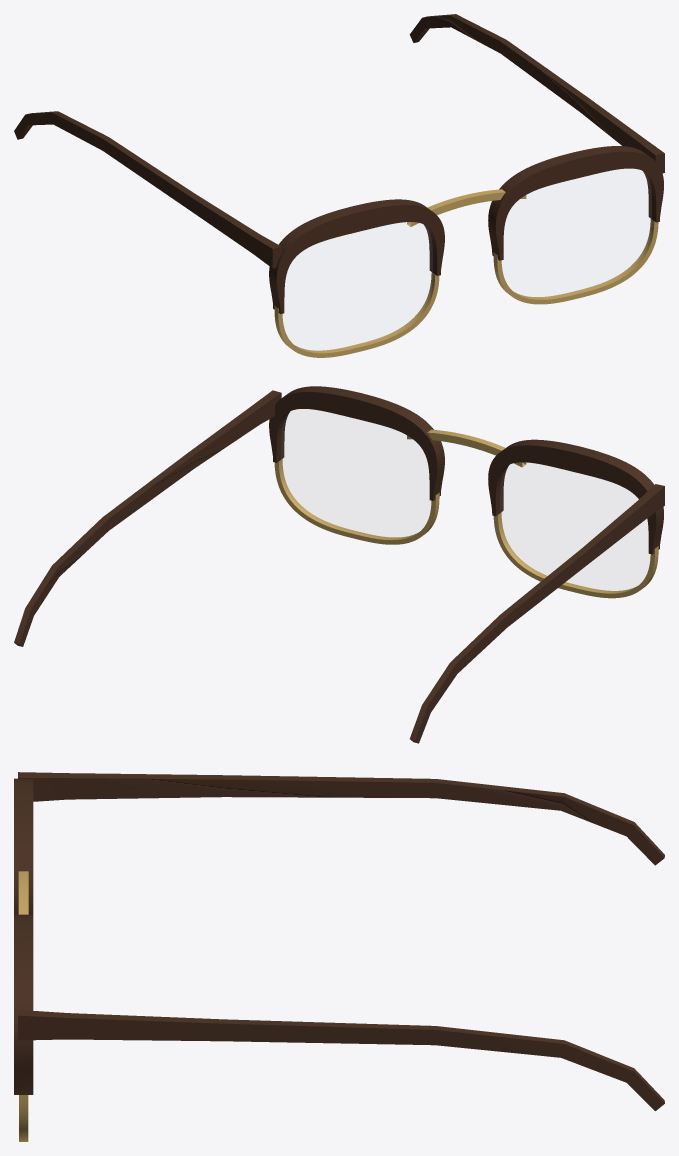
The model's file is model_5_brown_gold.glb.
The picture shows the model from 3 angles, top to bottom: view 1: azimuth 30°, elevation 25°; view 2: azimuth 150°, elevation 25°; view 3: azimuth 270°, elevation 25°; orthographic projection. The views are drawn at different scales.
Parts seen in each view (by area): view 1: Browline_Glasses; view 2: Browline_Glasses; view 3: Browline_Glasses.
Part boxes in pixels (left/top/right/bottom): Browline_Glasses: left=14, top=14, right=664, bottom=357; Browline_Glasses: left=14, top=386, right=664, bottom=743; Browline_Glasses: left=14, top=772, right=664, bottom=1141.
Size of the model in its own units: 0.1403 by 0.047 by 0.1538.
